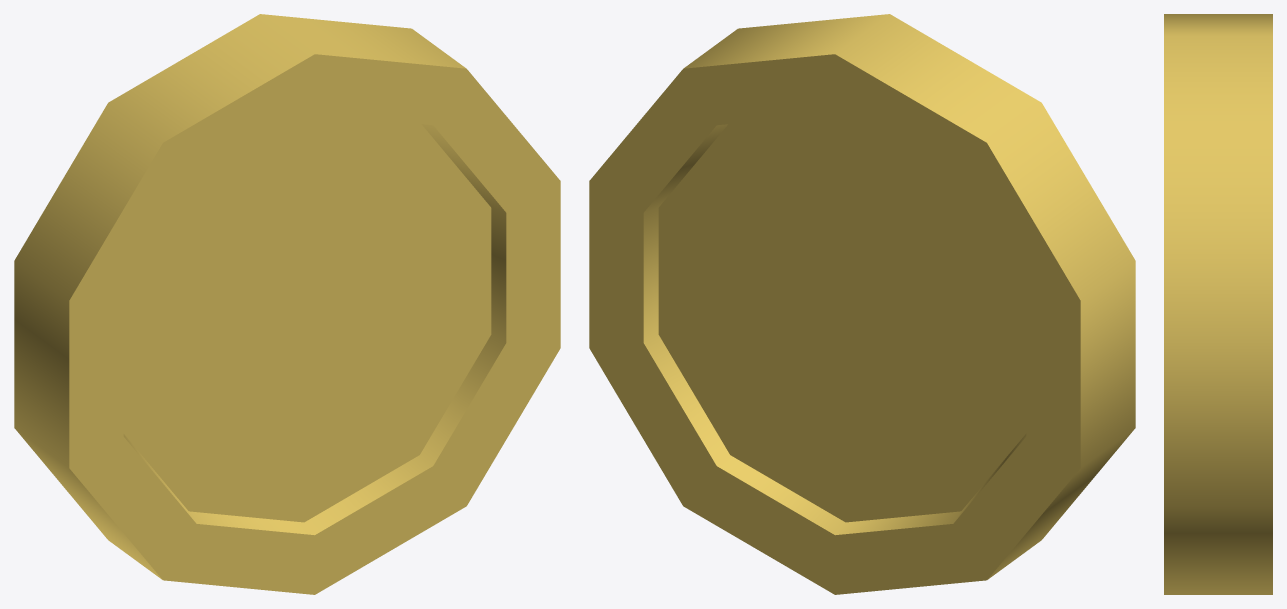
Rendered from Para.fbx.
3 views of the same model, side by side, from view 1: azimuth 30°, elevation 25°; view 2: azimuth 150°, elevation 25°; view 3: azimuth 270°, elevation 25° (orthographic).
Visible parts, largest first — view 1: Bozuk_Para; view 2: Bozuk_Para; view 3: Bozuk_Para.
Part boxes in pixels (x1=…): Bozuk_Para: x1=14, y1=14, x2=560, y2=594; Bozuk_Para: x1=589, y1=14, x2=1135, y2=594; Bozuk_Para: x1=1164, y1=14, x2=1272, y2=594.
Bounding box in the file's own units: 185 × 195 × 35.86.
